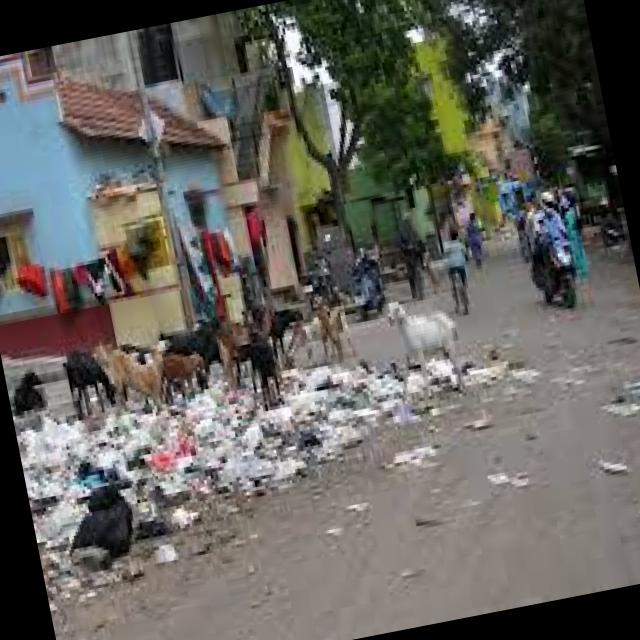garbage: (18, 363, 451, 579)
